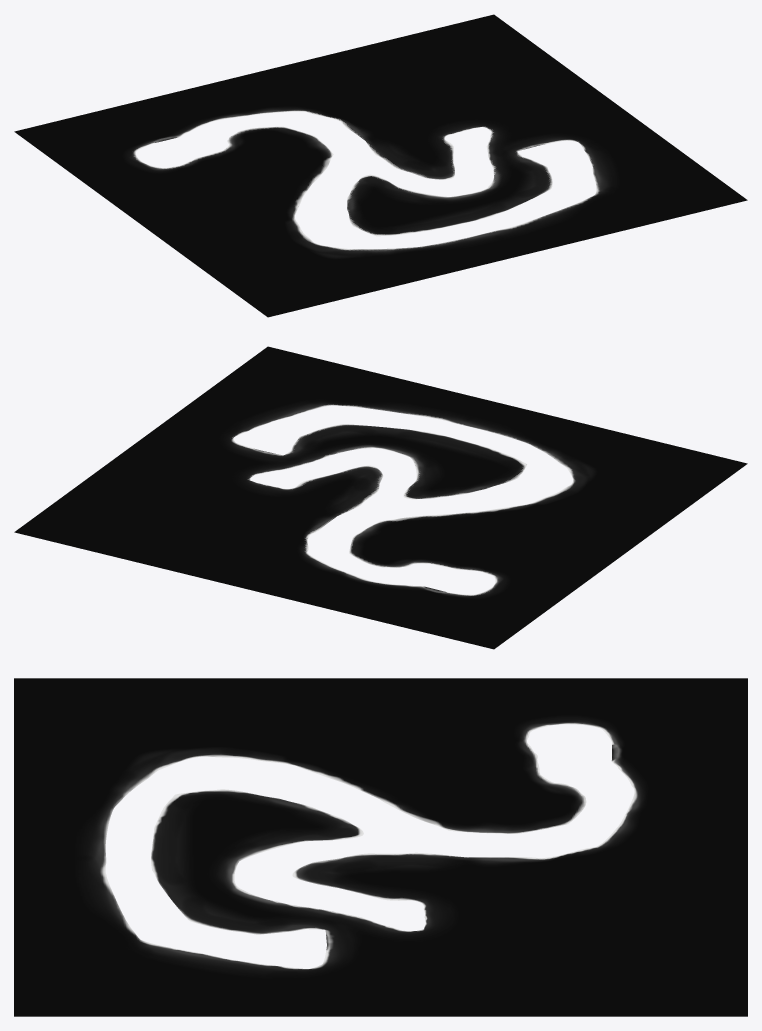
The model's file is terrain.obj.
3 views of the same model, one above another, from view 1: azimuth 30°, elevation 25°; view 2: azimuth 150°, elevation 25°; view 3: azimuth 270°, elevation 25° (orthographic). The views are drawn at different scales.
Parts seen in each view (by area): view 1: Plane; view 2: Plane; view 3: Plane.
Part boxes in pixels (x1,y1,x2,y2): Plane: [14, 14, 747, 317]; Plane: [14, 346, 747, 649]; Plane: [14, 678, 747, 1016].
Size of the model in its own units: 53.54 by 0 by 49.05.
Materials: 1 (1 with a texture image).
